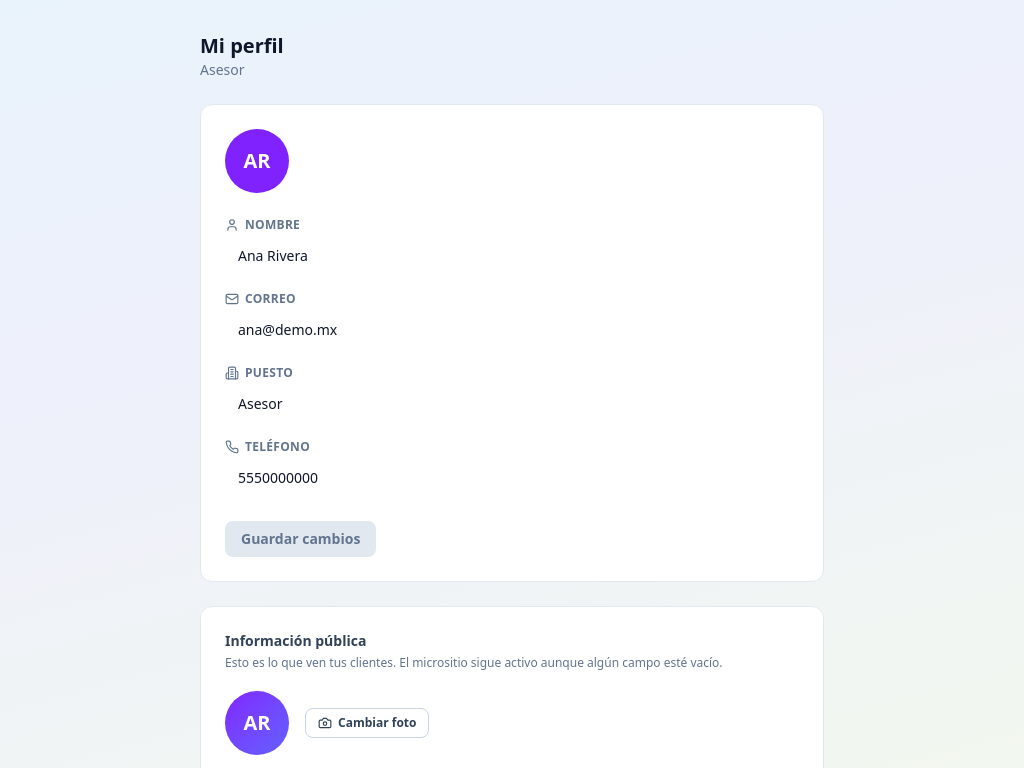
Test case: PerfilPersonal: éxito respaldado por backend › muestra Guardado únicamente tras una respuesta exitosa
Replace the text in the field below "Nombre" with "Ana Actualizada": (512, 256) [225,237,799,275]
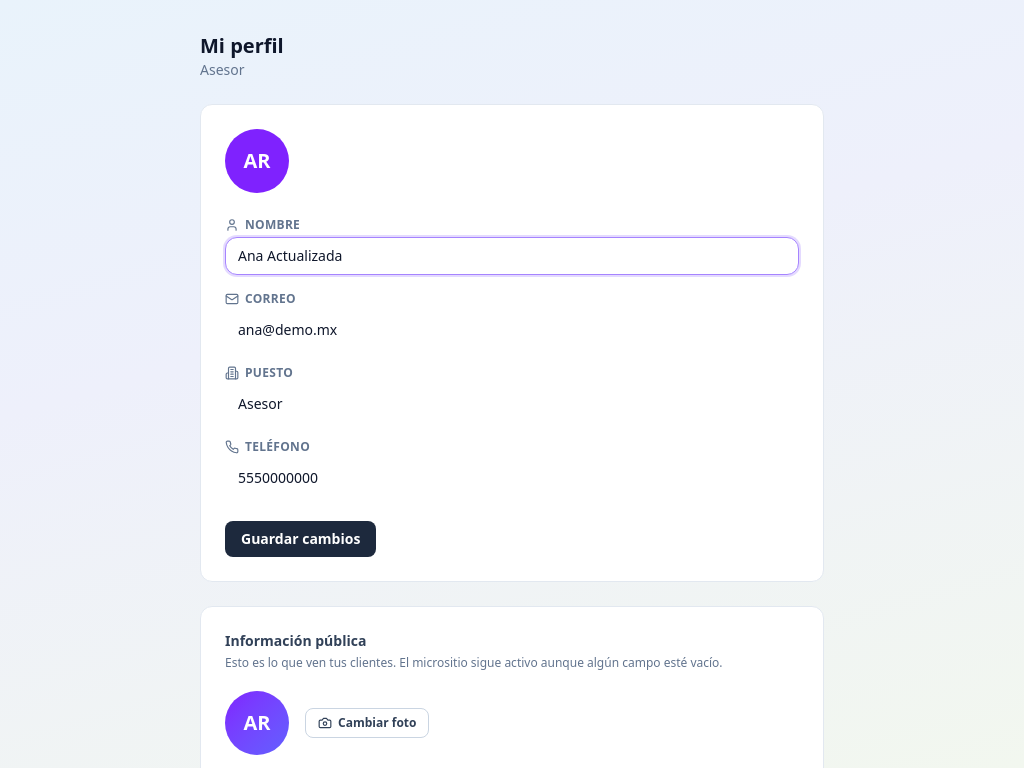
Click the button "Guardar cambios": (301, 539) [225,521,376,557]
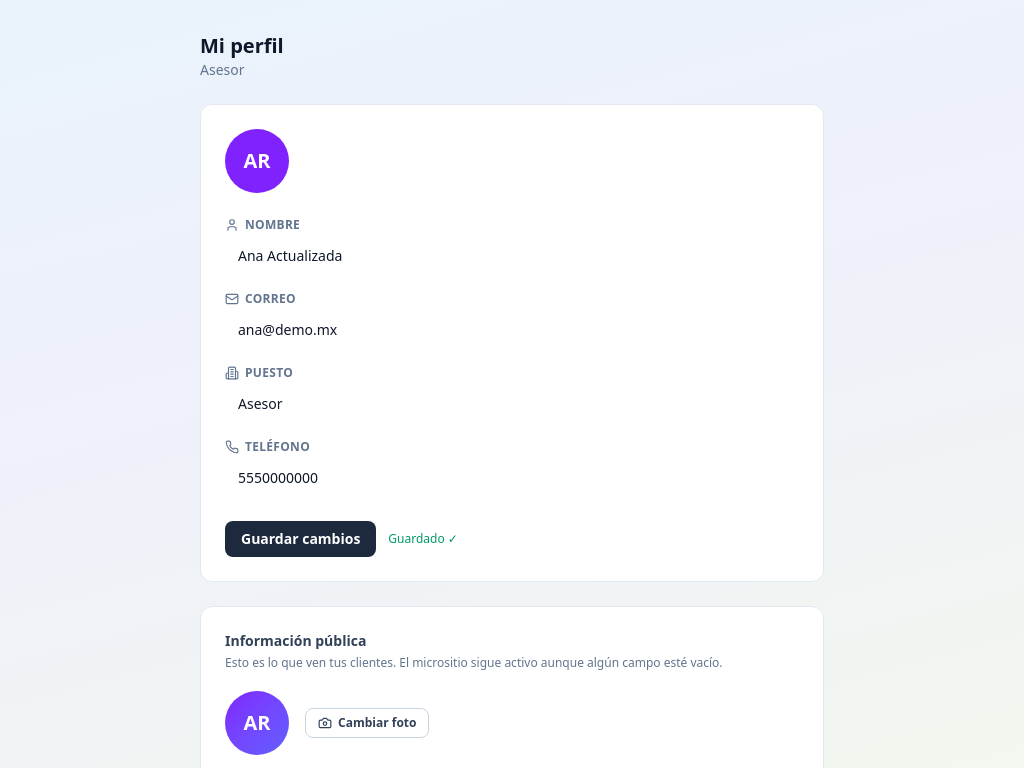
Expected: the text "Guardado ✓" is shown, [388,531,458,547]
